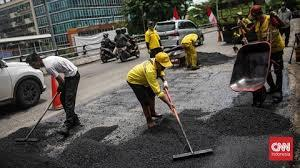Pothole: (183, 65, 203, 79)
